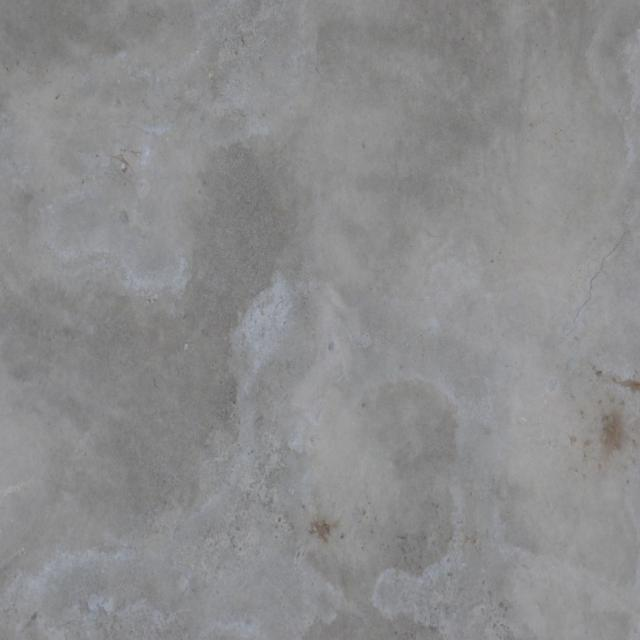corrosion: (560, 362, 640, 493), (297, 508, 354, 552)
